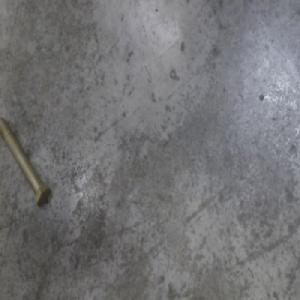Bolt: (0, 105, 52, 208)
